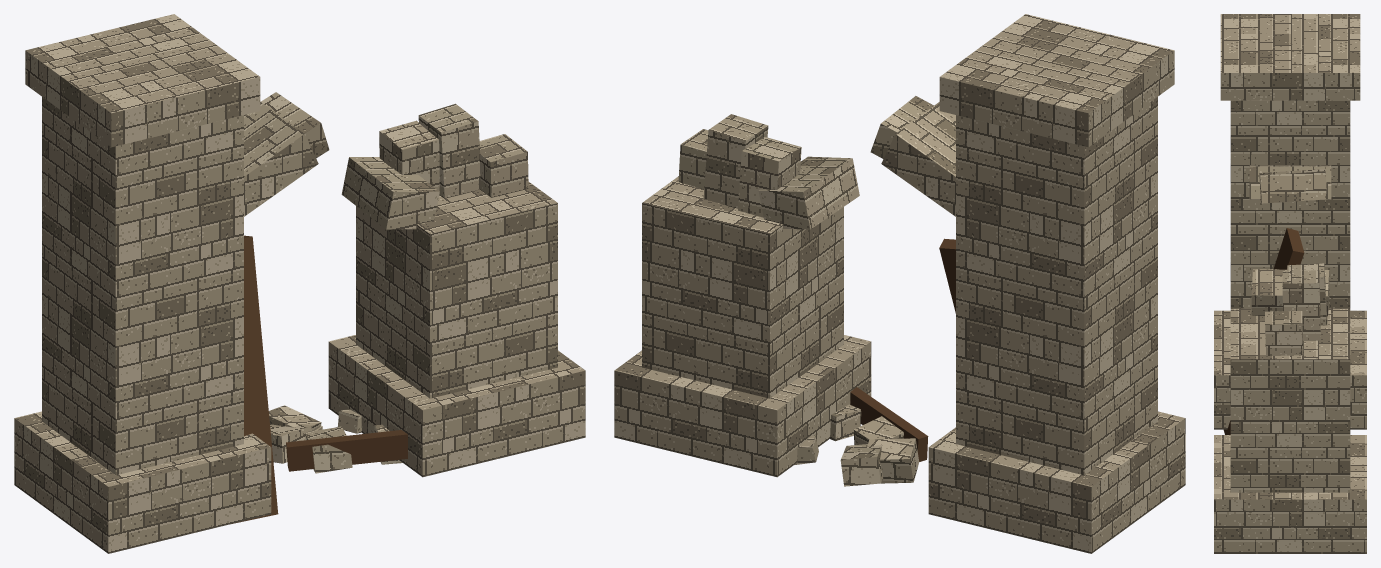
The model's file is abbey_gate_ruined.glb.
3 views of the same model, side by side, from view 1: azimuth 30°, elevation 25°; view 2: azimuth 150°, elevation 25°; view 3: azimuth 270°, elevation 25° (orthographic). The views are drawn at different scales.
Visible parts, largest first — view 1: pier_block_l, pier_block_r, pier_cap_l, pier_plinth_l, pier_plinth_r, arch_stub_long, arch_stub_right, fallen_door, crown_tooth_1, door_plank, crown_tooth_0, crown_tooth_2 (+4 smaller); view 2: pier_block_l, pier_block_r, pier_cap_l, pier_plinth_l, pier_plinth_r, arch_stub_long, arch_stub_right, crown_tooth_1, crown_tooth_0, rubble_5, rubble_3, door_plank (+5 smaller); view 3: pier_block_r, pier_block_l, pier_cap_l, pier_plinth_r, pier_plinth_l, crown_tooth_1, arch_stub_tip, crown_tooth_2, arch_stub_right, arch_stub_long, fallen_door, crown_tooth_0.
Part boxes in pixels (<box>): pier_block_l: <box>42,97,243,475</box>; pier_block_r: <box>356,182,557,398</box>; pier_cap_l: <box>25,14,260,147</box>; pier_plinth_l: <box>14,411,271,553</box>; pier_plinth_r: <box>328,335,585,477</box>; arch_stub_long: <box>244,102,318,216</box>; arch_stub_right: <box>341,157,439,229</box>; fallen_door: <box>232,235,278,523</box>; crown_tooth_1: <box>418,103,480,198</box>; door_plank: <box>286,430,407,471</box>; crown_tooth_0: <box>379,120,439,195</box>; crown_tooth_2: <box>479,134,528,197</box>; pier_block_l: <box>956,97,1157,475</box>; pier_block_r: <box>642,176,843,398</box>; pier_cap_l: <box>939,14,1174,147</box>; pier_plinth_l: <box>928,411,1185,553</box>; pier_plinth_r: <box>614,335,871,477</box>; arch_stub_long: <box>881,102,955,216</box>; arch_stub_right: <box>758,156,859,229</box>; crown_tooth_1: <box>703,114,768,208</box>; crown_tooth_0: <box>738,137,801,217</box>; rubble_5: <box>867,438,919,483</box>; rubble_3: <box>840,444,883,486</box>; door_plank: <box>850,387,928,461</box>; pier_block_r: <box>1230,308,1350,492</box>; pier_block_l: <box>1230,100,1350,308</box>; pier_cap_l: <box>1220,14,1360,100</box>; pier_plinth_r: <box>1214,435,1366,553</box>; pier_plinth_l: <box>1214,310,1366,429</box>; crown_tooth_1: <box>1282,270,1320,340</box>; arch_stub_tip: <box>1259,169,1326,203</box>; crown_tooth_2: <box>1265,311,1303,356</box>; arch_stub_right: <box>1251,269,1329,316</box>; arch_stub_long: <box>1249,165,1331,199</box>; fallen_door: <box>1223,228,1304,434</box>; crown_tooth_0: <box>1287,263,1327,325</box>.
Size of what is drawn, in the model's own units: 4.1 by 3.69 by 1.4.
Materials: 2 (1 with a texture image).
